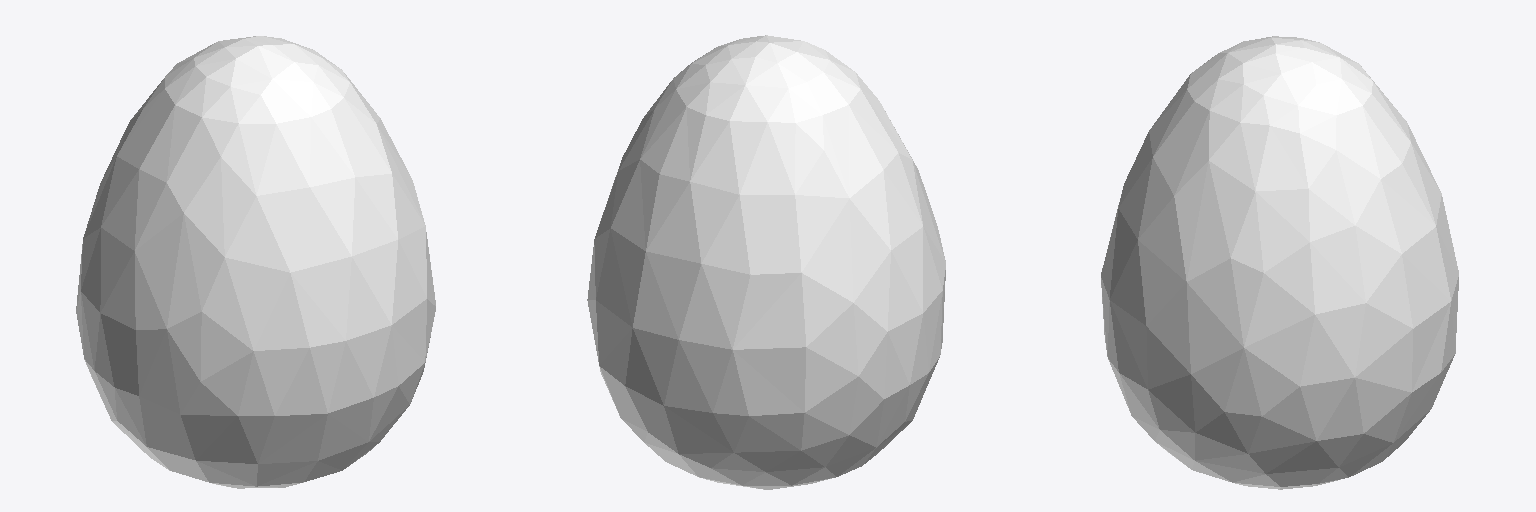
File: Egg.obj
3 renders of one model, left to right at view 1: azimuth 30°, elevation 25°; view 2: azimuth 150°, elevation 25°; view 3: azimuth 270°, elevation 25°, orthographic.
Parts seen in each view (by area): view 1: Egg_Mesh.001; view 2: Egg_Mesh.001; view 3: Egg_Mesh.001.
Boxes of the visible parts, box(x1,y1,x2,y2) form: Egg_Mesh.001: box(76, 36, 435, 488); Egg_Mesh.001: box(587, 35, 945, 489); Egg_Mesh.001: box(1101, 36, 1458, 489).
Bounding box in the file's own units: 0.6201 × 0.8067 × 0.6193.